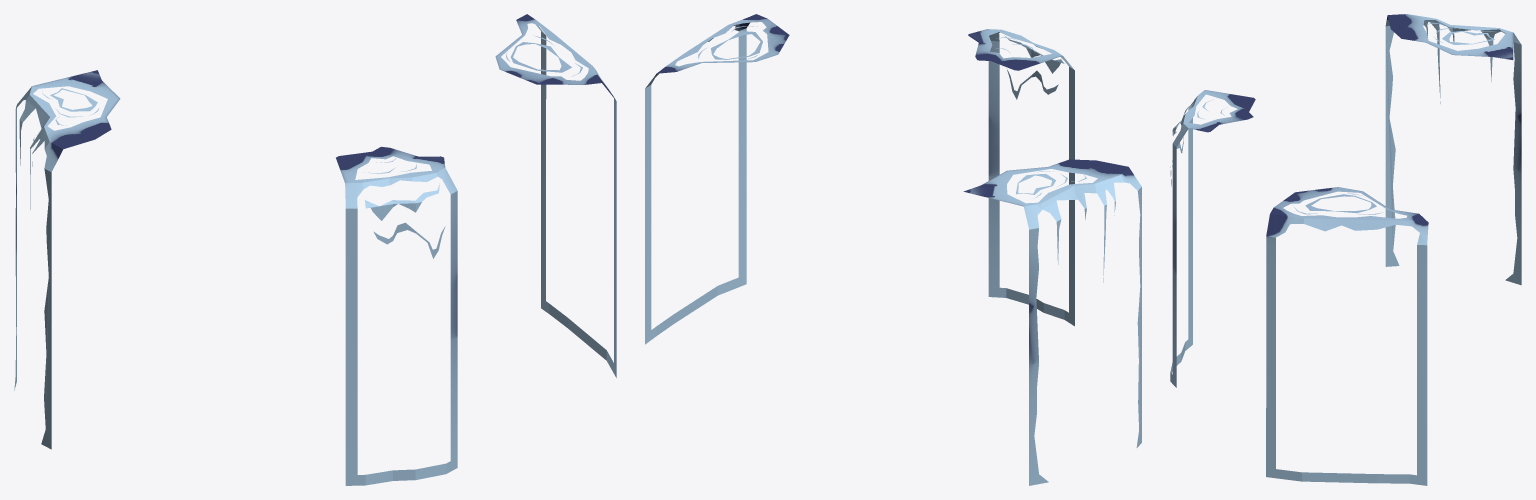
Rendered from Water_02.FBX.
3 renders of one model, left to right at view 1: azimuth 30°, elevation 25°; view 2: azimuth 150°, elevation 25°; view 3: azimuth 270°, elevation 25°, orthographic. The views are drawn at different scales.
Parts seen in each view (by area): view 1: Water_02; view 2: Water_02; view 3: Water_02.
Boxes of the visible parts, x1,y1,x2,y2 form: Water_02: (14,14,616,485); Water_02: (645,14,1141,485); Water_02: (1170,14,1521,485).
Size of the model in its own units: 19.59 by 10.85 by 13.3.
